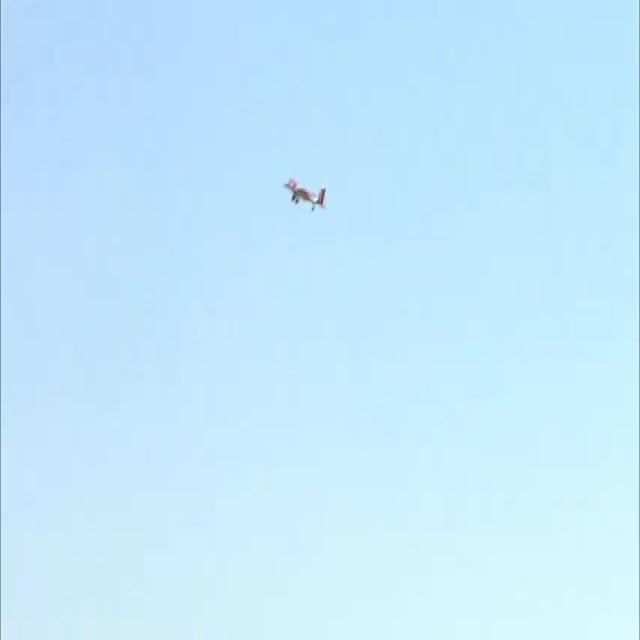iha: (283, 177, 327, 213)
